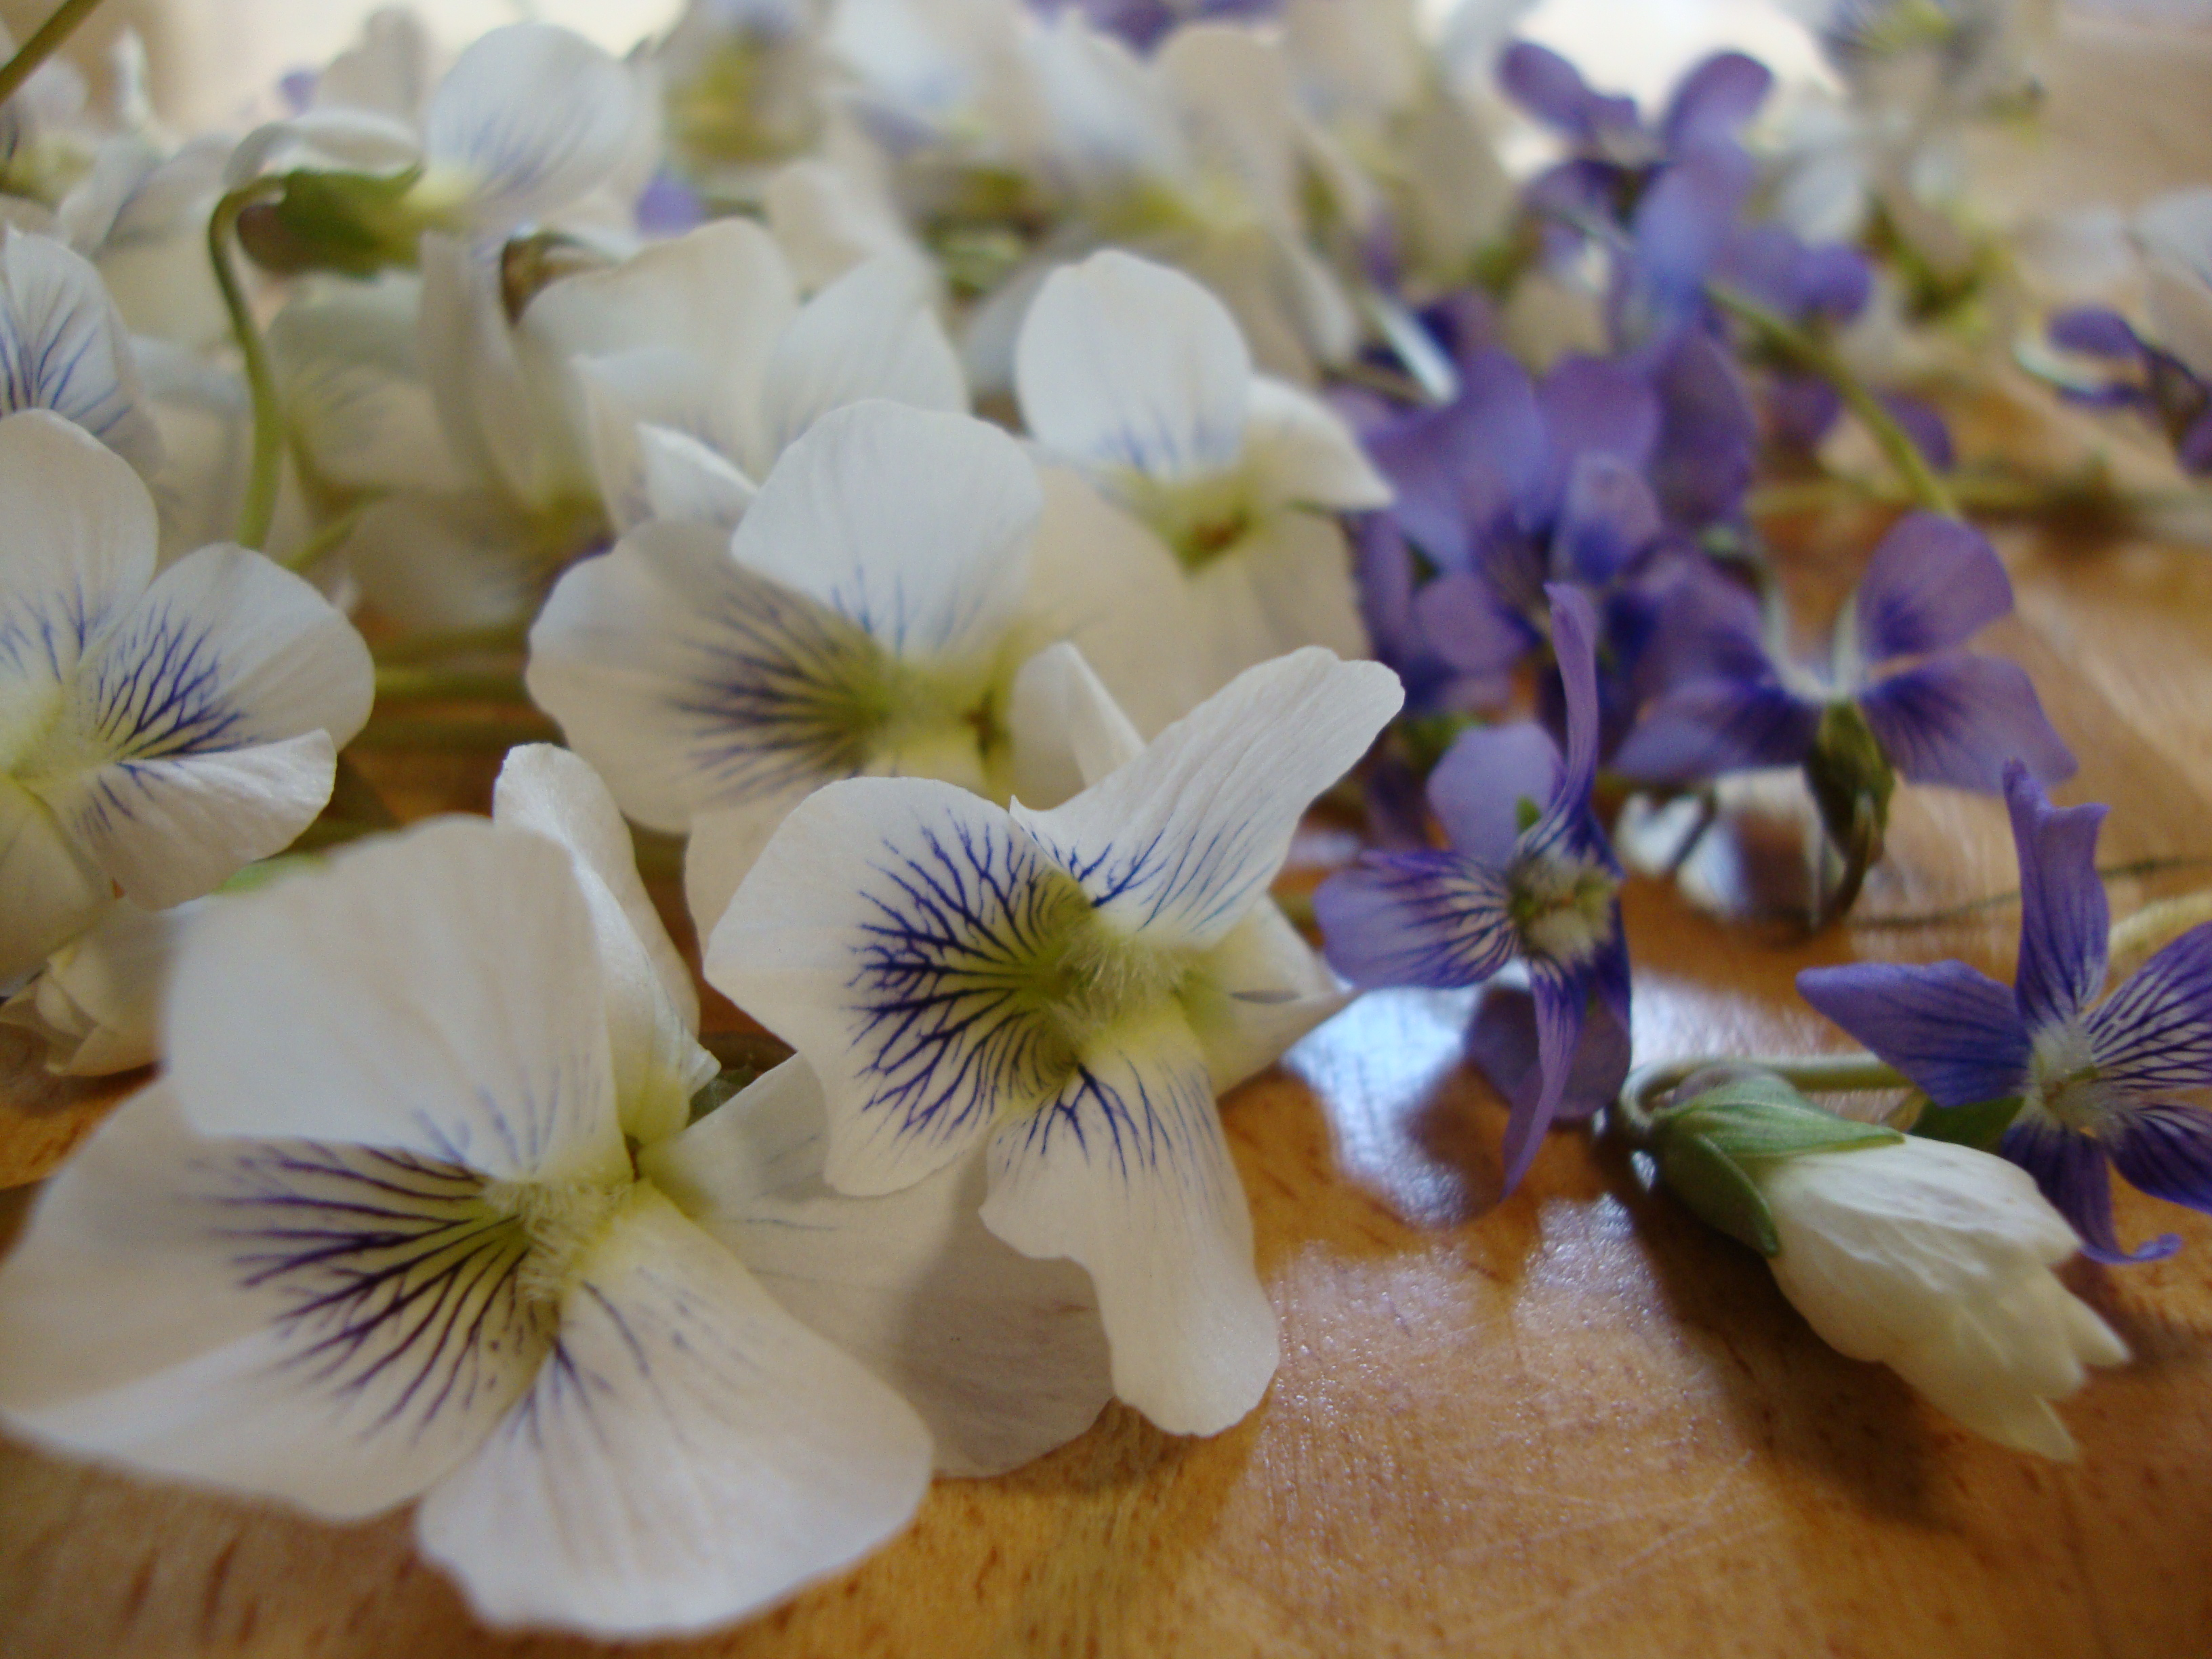violet: (1385, 66, 2212, 1364)
